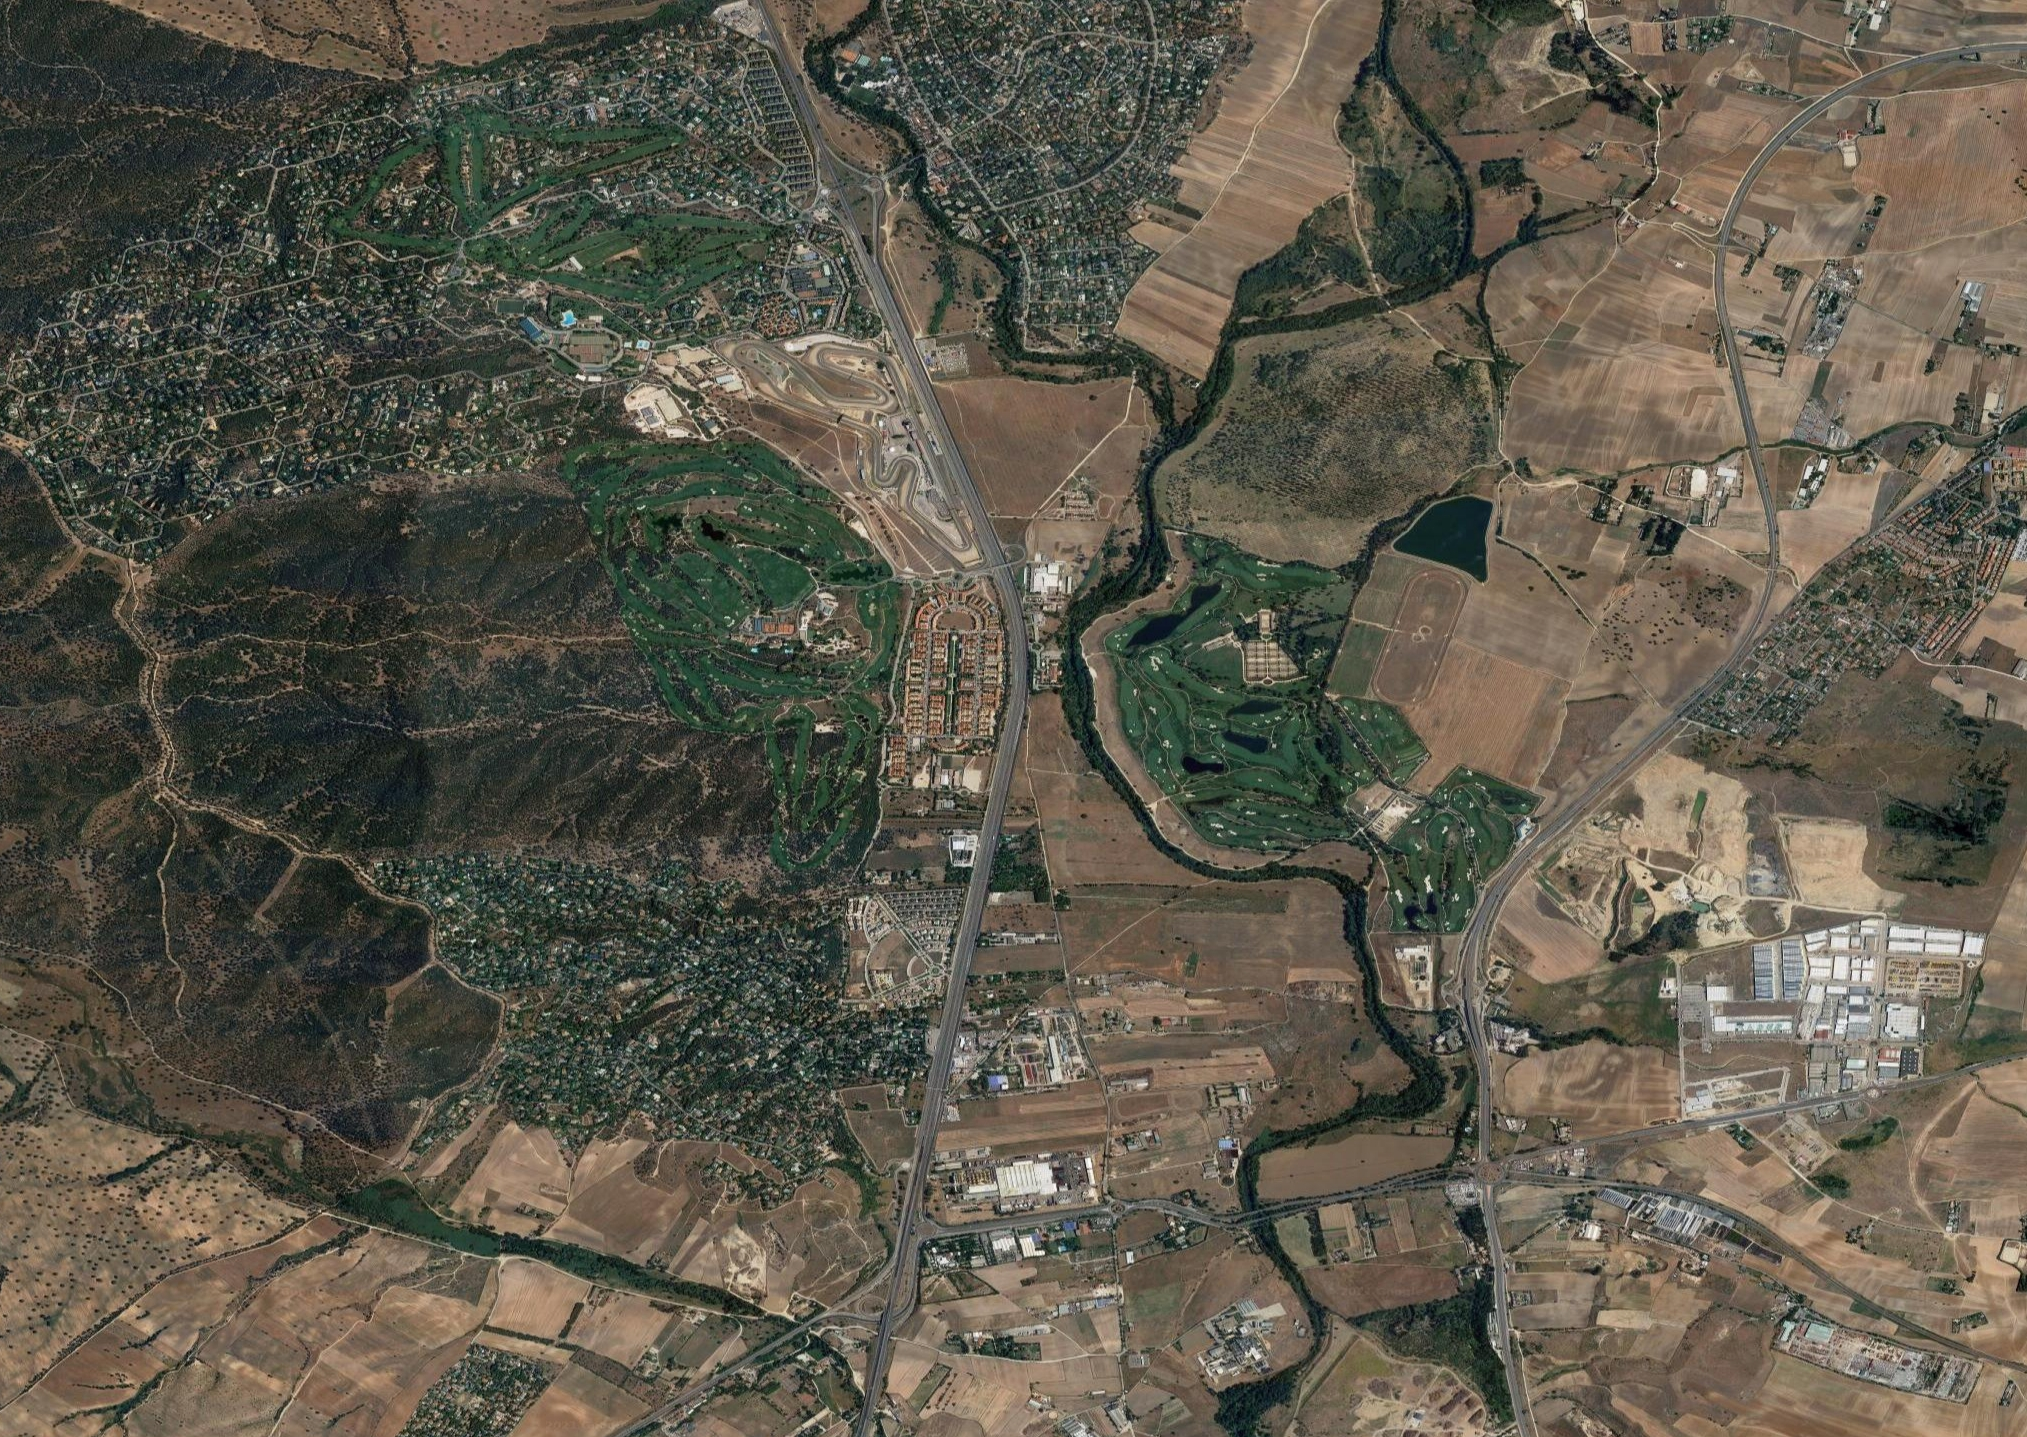industrial: (1673, 886, 1985, 1124)
motorway: (734, 3, 881, 288), (870, 280, 1006, 558), (853, 1104, 953, 1437), (1447, 784, 1609, 949), (968, 560, 1052, 863), (902, 865, 1006, 1104), (1606, 621, 1755, 781), (1443, 950, 1526, 1194), (1466, 1194, 1548, 1437), (1732, 376, 1795, 621), (1701, 157, 1764, 383), (1755, 62, 1892, 159), (1889, 2, 2027, 81)
